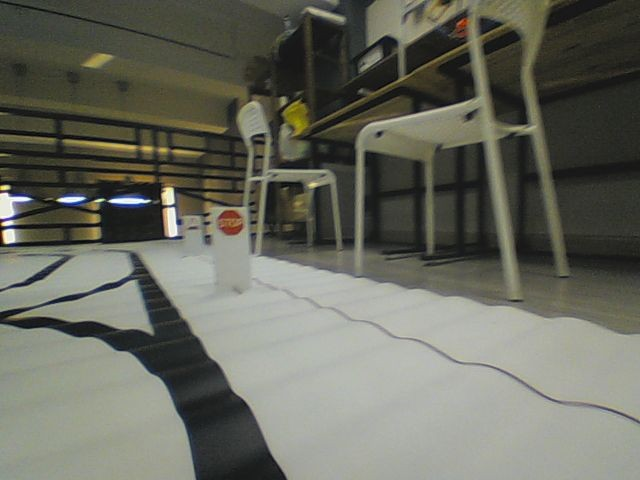Stop: (215, 208, 245, 236)
